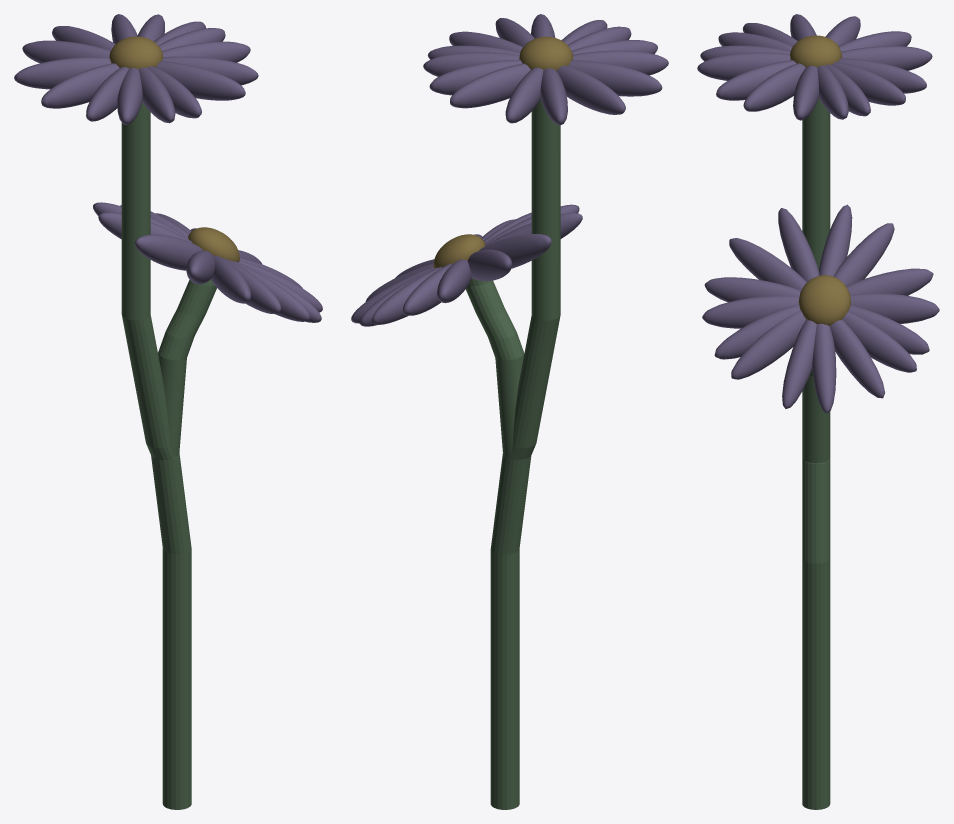
File: aster.obj
The picture shows the model from 3 angles, left to right: view 1: azimuth 30°, elevation 25°; view 2: azimuth 150°, elevation 25°; view 3: azimuth 270°, elevation 25°; orthographic projection. The views are drawn at different scales.
Parts seen in each view (by area): view 1: aster asterStem, aster asterPetals, aster asterPetals1, asterCenter aster, aster asterCenter1; view 2: aster asterStem, aster asterPetals, aster asterPetals1, asterCenter aster, aster asterCenter1; view 3: aster asterPetals1, aster asterStem, aster asterPetals, aster asterCenter1, asterCenter aster.
Part boxes in pixels (x1=…): aster asterStem: x1=121, y1=102, x2=216, y2=809; aster asterPetals: x1=14, y1=14, x2=258, y2=124; aster asterPetals1: x1=93, y1=202, x2=322, y2=322; asterCenter aster: x1=109, y1=36, x2=163, y2=69; aster asterCenter1: x1=188, y1=227, x2=239, y2=262; aster asterStem: x1=465, y1=100, x2=560, y2=809; aster asterPetals: x1=423, y1=14, x2=668, y2=125; aster asterPetals1: x1=351, y1=204, x2=582, y2=326; asterCenter aster: x1=519, y1=36, x2=573, y2=70; aster asterCenter1: x1=433, y1=234, x2=485, y2=268; aster asterPetals1: x1=702, y1=204, x2=939, y2=413; aster asterStem: x1=802, y1=98, x2=830, y2=809; aster asterPetals: x1=697, y1=14, x2=932, y2=120; aster asterCenter1: x1=798, y1=275, x2=850, y2=325; asterCenter aster: x1=790, y1=35, x2=842, y2=67.
Bounding box in the file's own units: 1.47 × 3.87 × 1.14.
